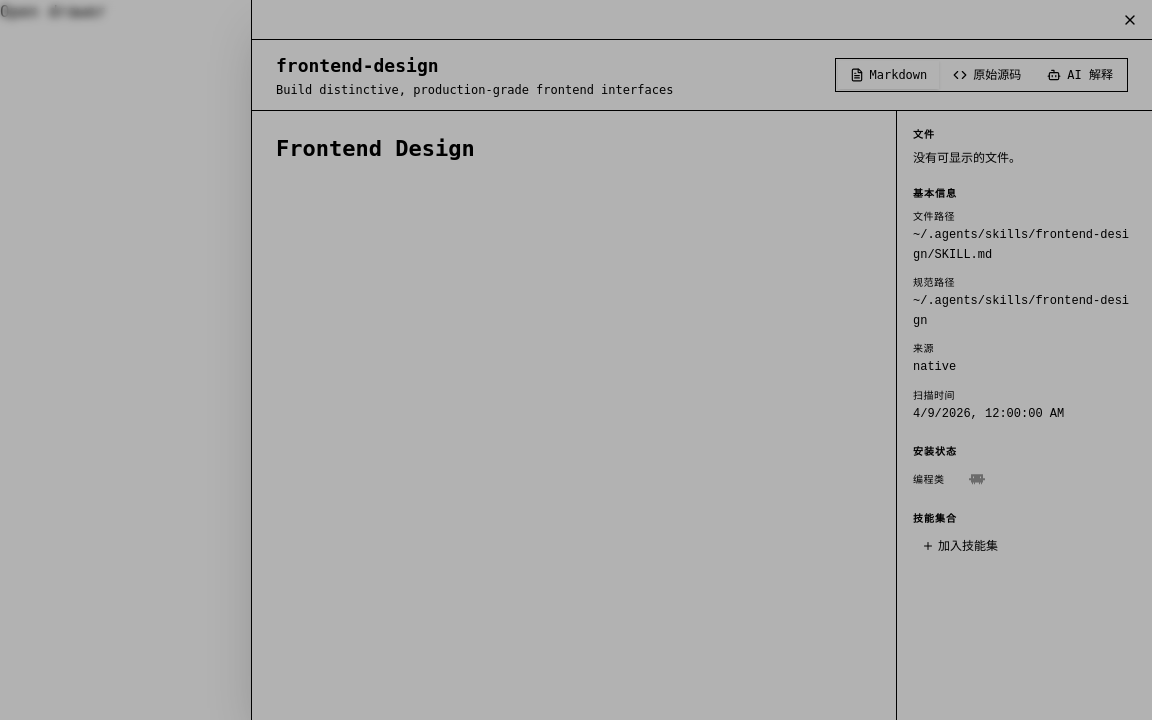
SkillDetailDrawer › closes on overlay click
The width and height of the screenshot is (1152, 720).
Click the element with test id "skill-detail-drawer-overlay" at (69, 360), box [0, 0, 1151, 719]
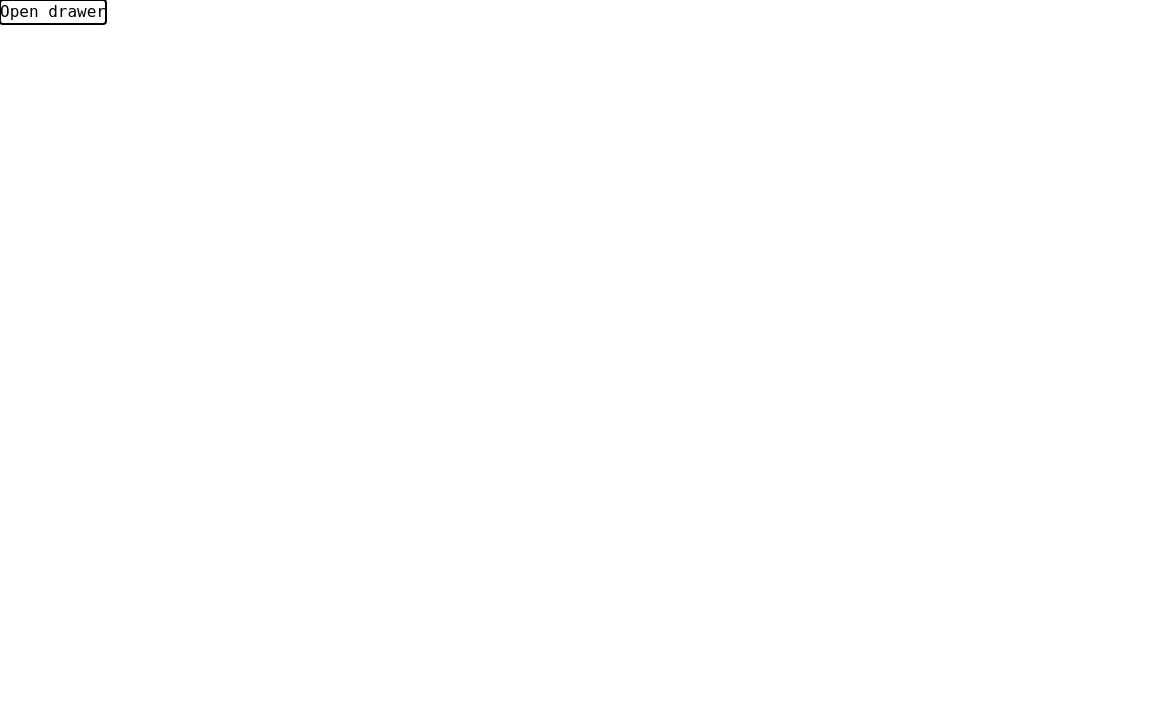
Result: the dialog with test id "skill-detail-drawer" is gone
